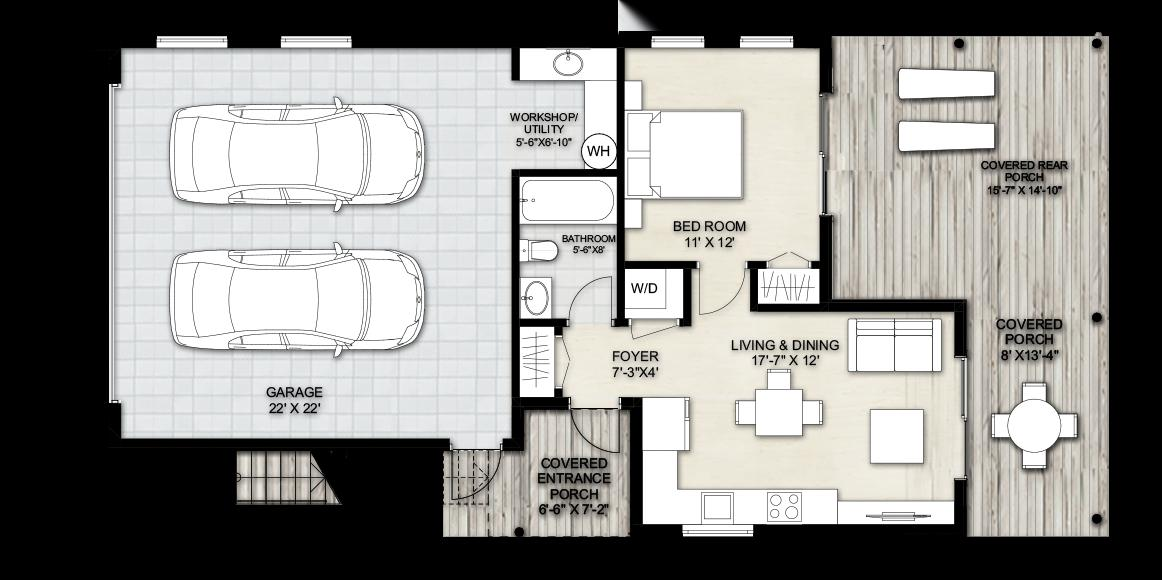room: (111, 43, 514, 442), (627, 318, 966, 533), (621, 42, 821, 265), (517, 174, 622, 400), (517, 42, 620, 172)
